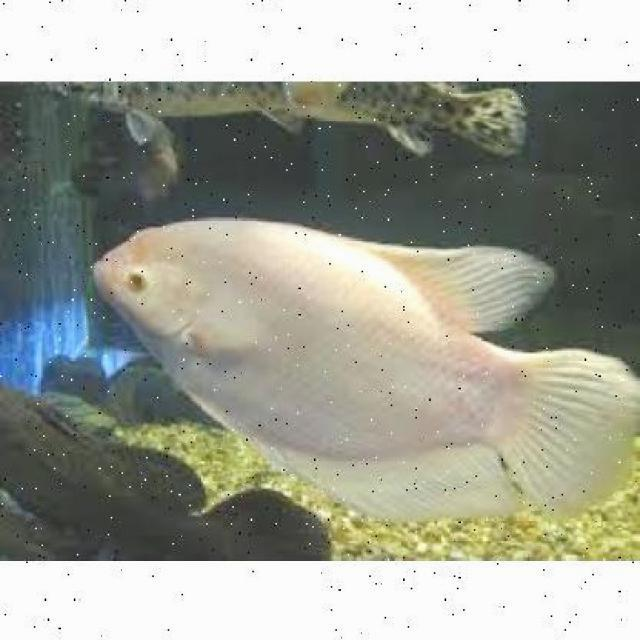gurame: (96, 210, 630, 507)
